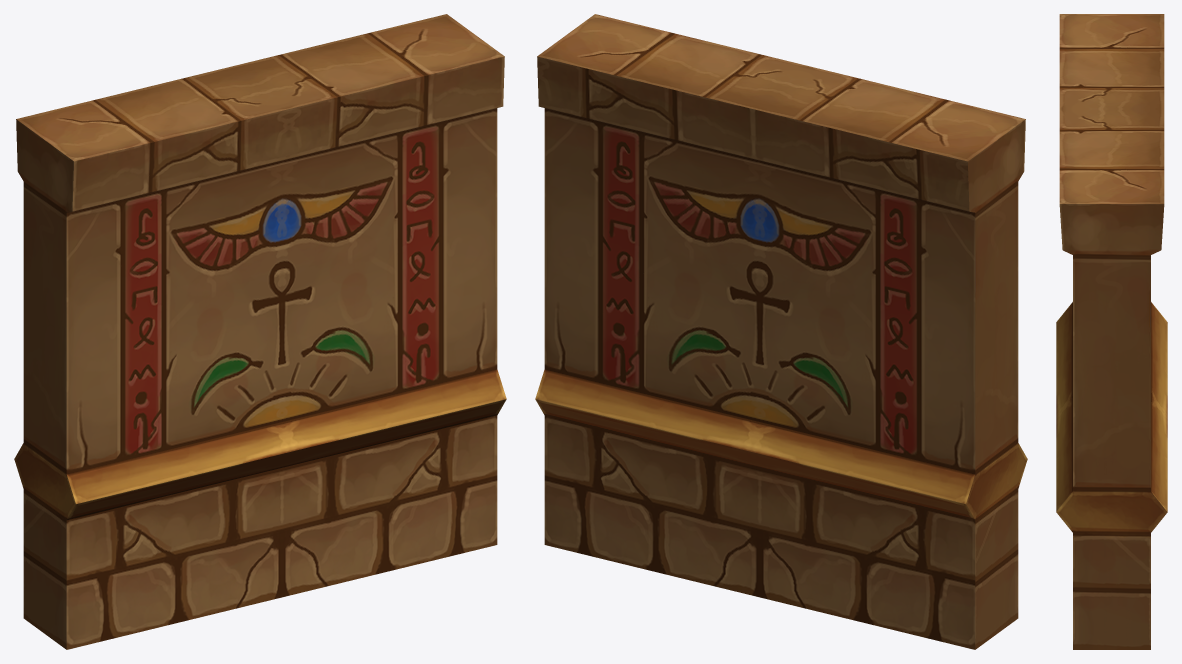
Rendered from td_wall_01.fbx.
3 views of the same model, side by side, from view 1: azimuth 30°, elevation 25°; view 2: azimuth 150°, elevation 25°; view 3: azimuth 270°, elevation 25° (orthographic). The views are drawn at different scales.
Parts seen in each view (by area): view 1: td_wall_01; view 2: td_wall_01; view 3: td_wall_01.
Part boxes in pixels (x1,y1,x2,y2): td_wall_01: (14, 14, 506, 649); td_wall_01: (535, 14, 1027, 649); td_wall_01: (1056, 14, 1167, 649).
Size of what is drawn, in the model's own units: 2.5 by 2.74 by 0.6206.
